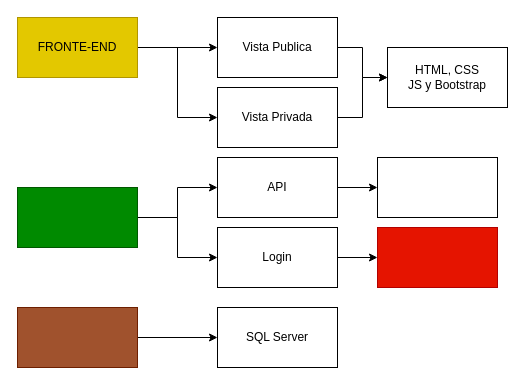
Image size: 525x385. Some labels were removed from this diagram. The box of each missing label's shape, as (x1, y1, x2, y2) in pixels:
.net 7: (376, 156, 498, 218)
BACK-END: (16, 186, 138, 248)
DATA BASE: (16, 306, 138, 368)
Identity Server / Auth0: (376, 226, 498, 288)
